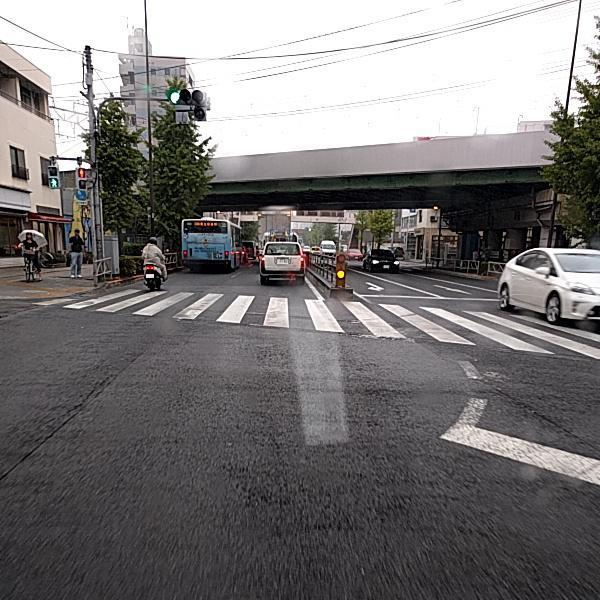D00: (492, 387, 597, 450)
D44: (436, 361, 596, 503)
